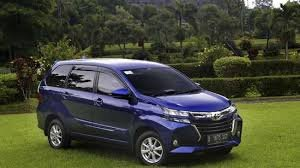mobil: (33, 56, 246, 168)
